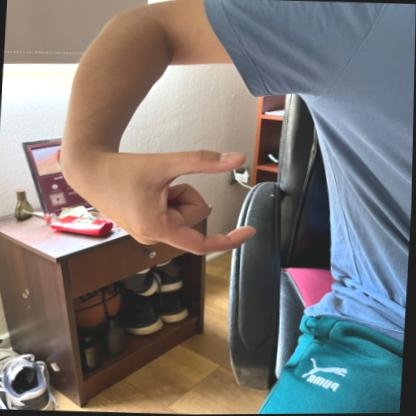G: (51, 135, 262, 260)
